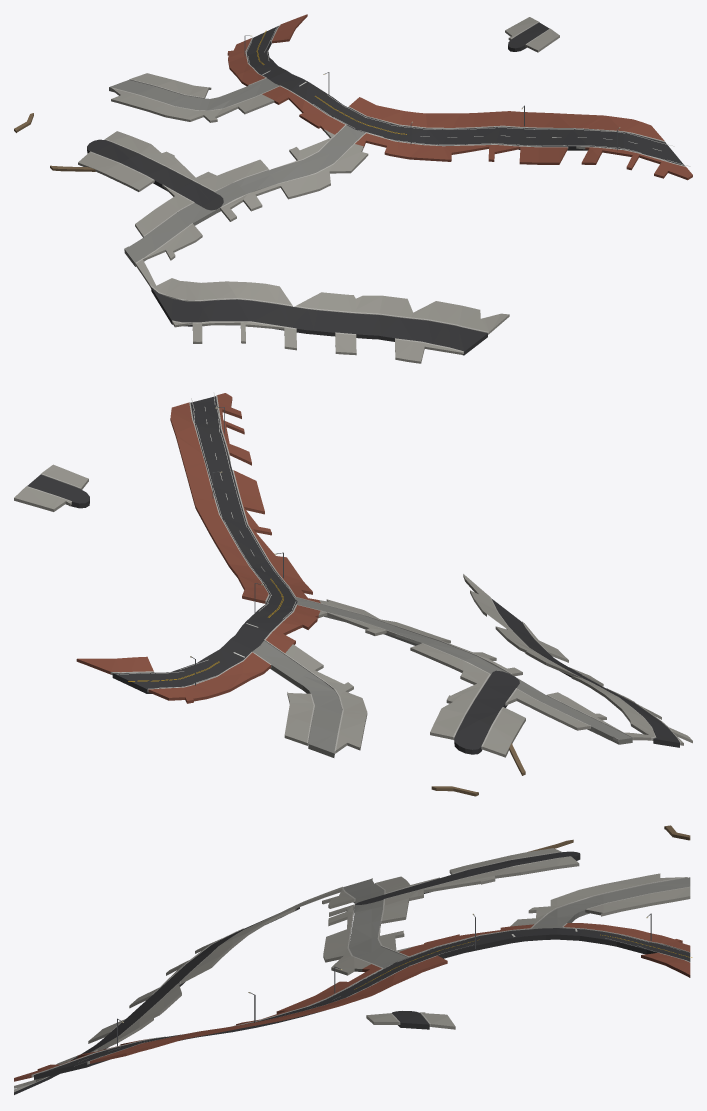
The picture shows the model from 3 angles, top to bottom: view 1: azimuth 30°, elevation 25°; view 2: azimuth 150°, elevation 25°; view 3: azimuth 270°, elevation 25°; orthographic projection. The views are drawn at different scales.
Bounding box in the file's own units: 148 × 55.34 × 146.
